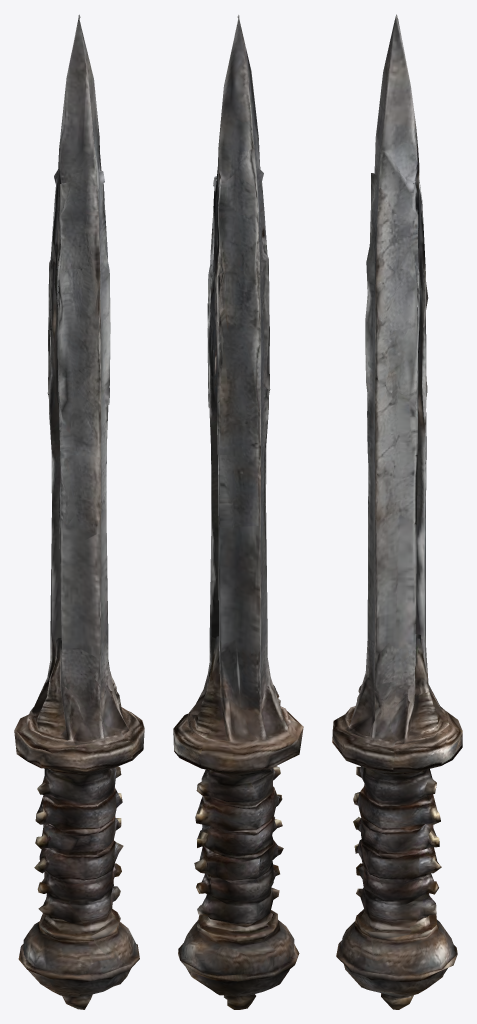
File: sword.glb
3 views of the same model, side by side, from view 1: azimuth 30°, elevation 25°; view 2: azimuth 210°, elevation 25°; view 3: azimuth 330°, elevation 25° (orthographic).
Visible parts, largest first — view 1: tripo_node_6f54f492-8e7f-4f48-8548-dd921e0c41ce; view 2: tripo_node_6f54f492-8e7f-4f48-8548-dd921e0c41ce; view 3: tripo_node_6f54f492-8e7f-4f48-8548-dd921e0c41ce.
Part boxes in pixels (bbox=[...]): tripo_node_6f54f492-8e7f-4f48-8548-dd921e0c41ce: bbox=[14, 14, 144, 1009]; tripo_node_6f54f492-8e7f-4f48-8548-dd921e0c41ce: bbox=[173, 14, 303, 1009]; tripo_node_6f54f492-8e7f-4f48-8548-dd921e0c41ce: bbox=[332, 14, 462, 1009].
Bounding box in the file's own units: 0.118 × 0.9848 × 0.1114.
Materials: 1 (1 with a texture image).
